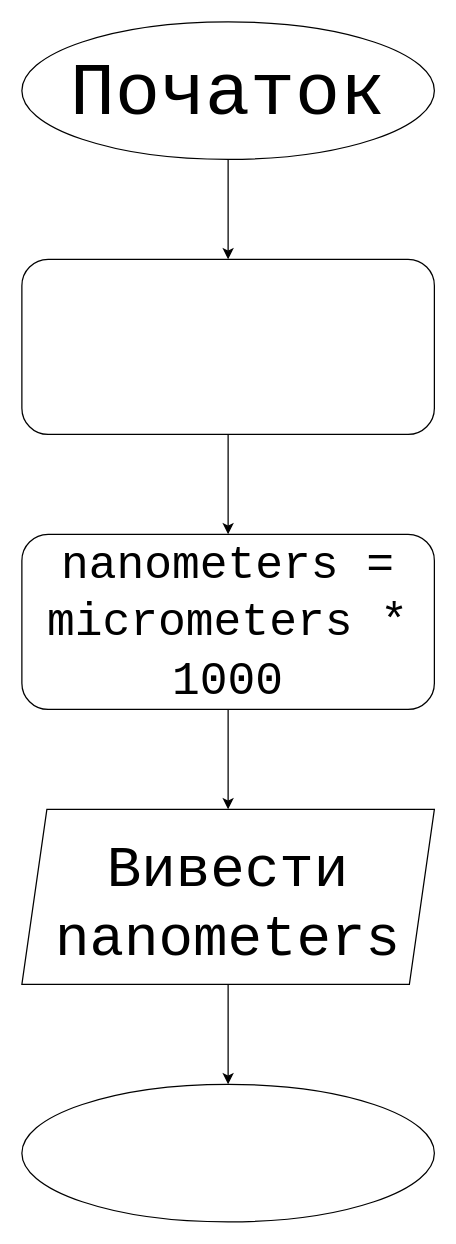
The diagram is 456 pixels wide and 1244 high, and some of its shapes have lost their labels. Each missing label, with the centre of its shape:
micrometers = 0.532: the point at 227,346
Кінець: the point at 227,1152
